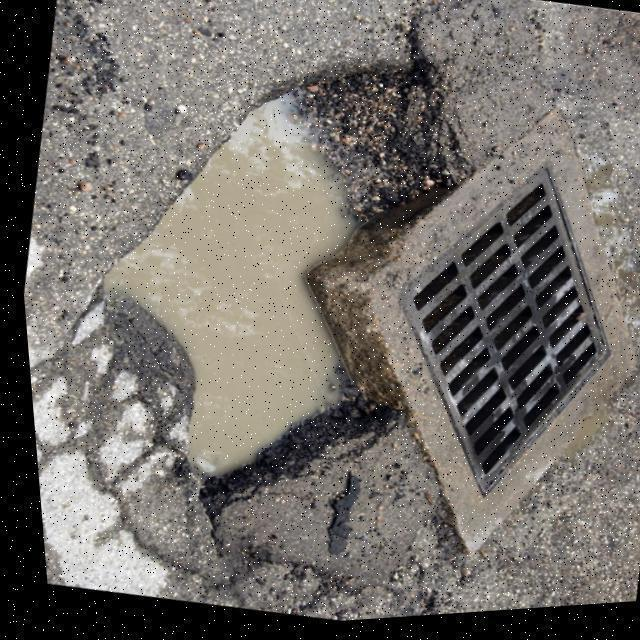Pothole: (97, 54, 465, 529)
